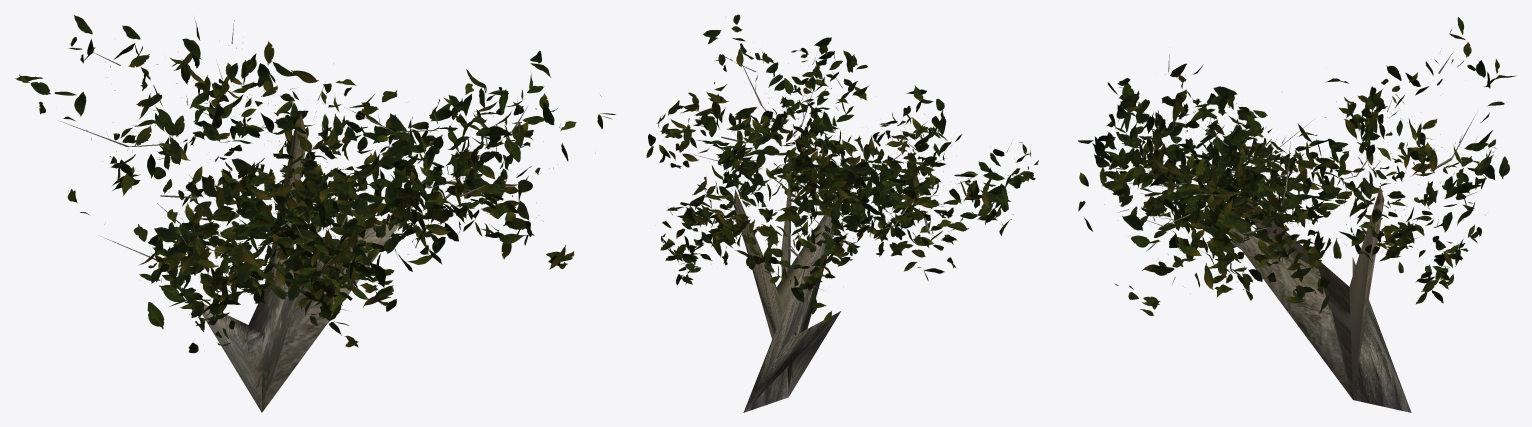
Rendered from island_tree.glb.
3 views of the same model, side by side, from view 1: azimuth 30°, elevation 25°; view 2: azimuth 150°, elevation 25°; view 3: azimuth 270°, elevation 25° (orthographic). The views are drawn at different scales.
Parts seen in each view (by area): view 1: island_tree_02_LOD1; view 2: island_tree_02_LOD1; view 3: island_tree_02_LOD1.
Part boxes in pixels (x1,y1,x2,y2): island_tree_02_LOD1: (15,15,615,412); island_tree_02_LOD1: (646,14,1038,412); island_tree_02_LOD1: (1078,17,1516,412).
Size of the model in its own units: 3.91 by 3.38 by 4.13.
3 materials, 3 textured.
